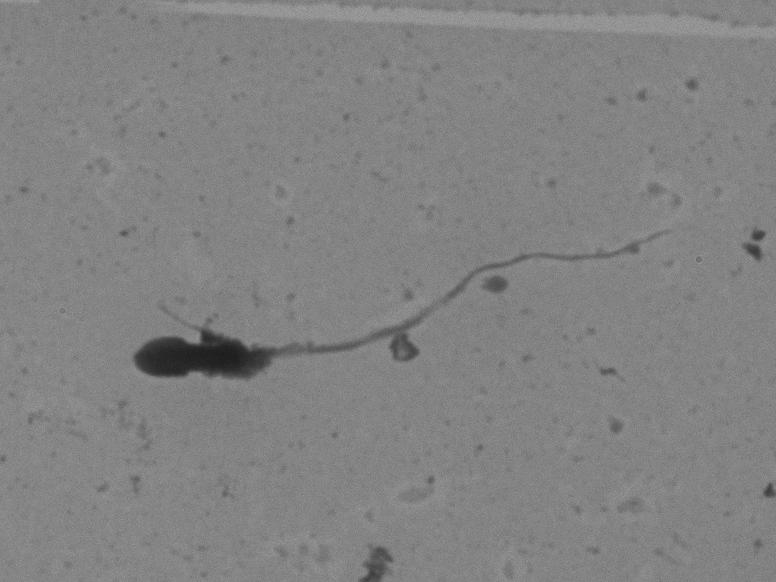Abnormal: (103, 183, 675, 411)
